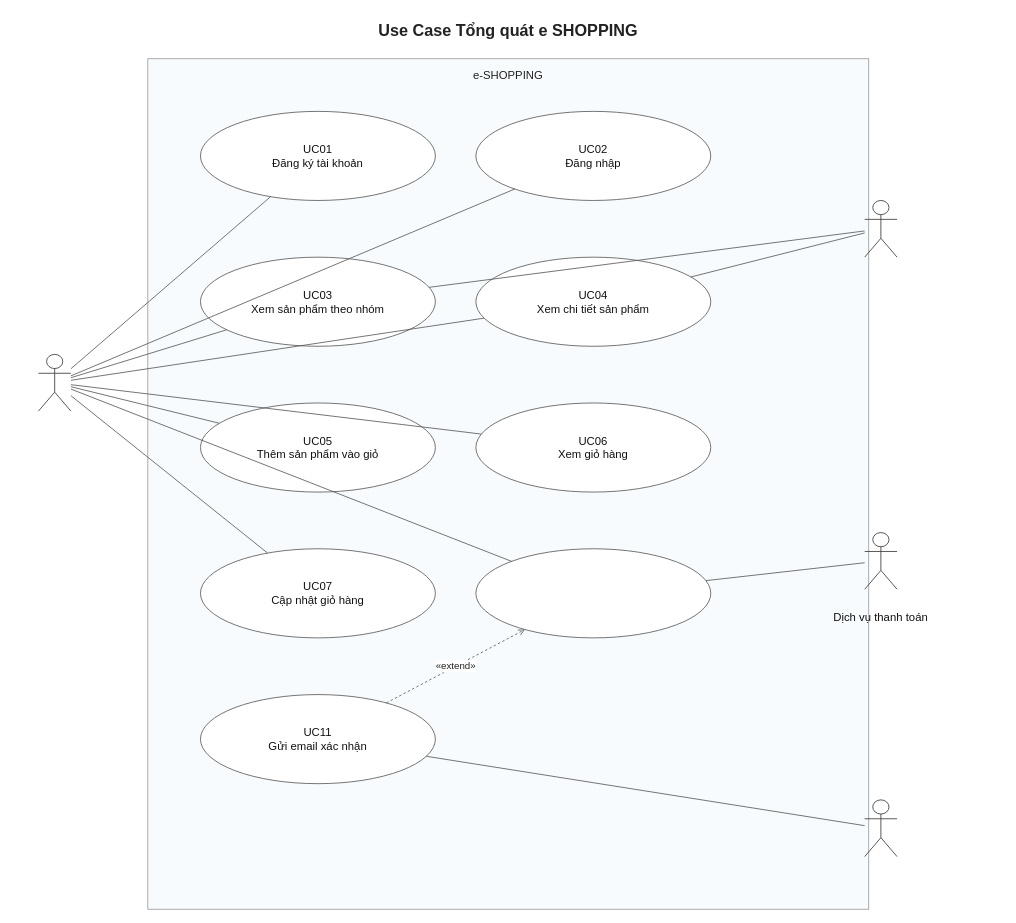
The diagram is 1016 pixels wide and 923 high, and some of its shapes have lost their labels. Here are the shapes that lost their labels. From the top down, the centre of each, then its label:
At pixel 880 228: "Hệ thống quản lý sản phẩm".
At pixel 54 382: "Khách hàng".
At pixel 593 593: "UC08 Đặt hàng và tính tiền".
At pixel 880 828: "Dịch vụ email".
